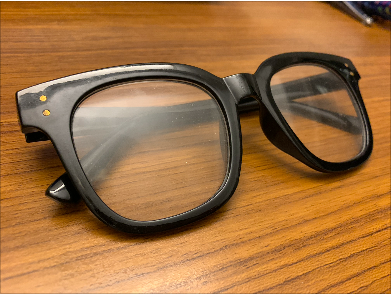Nonfood: (60, 58, 361, 190)
